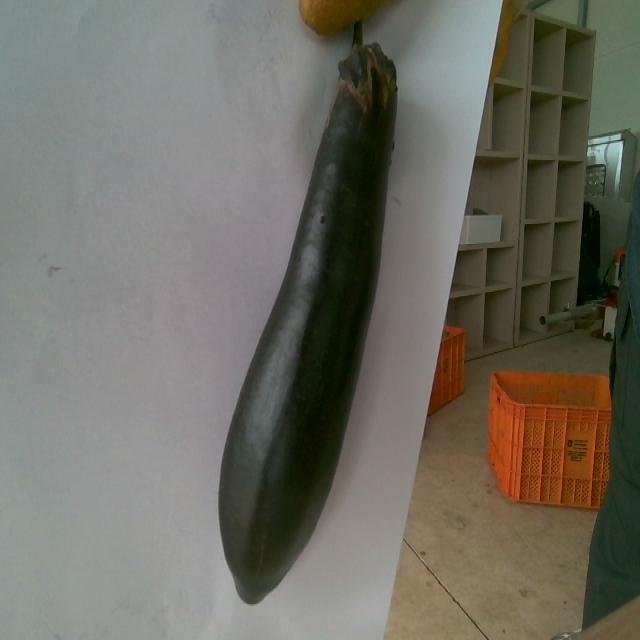Egg plant: (219, 39, 396, 603)
